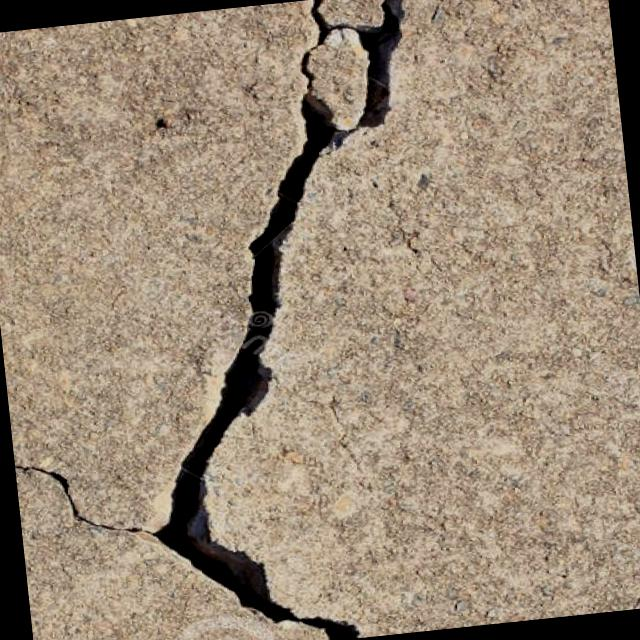crack: (115, 0, 481, 640), (16, 447, 170, 568)
